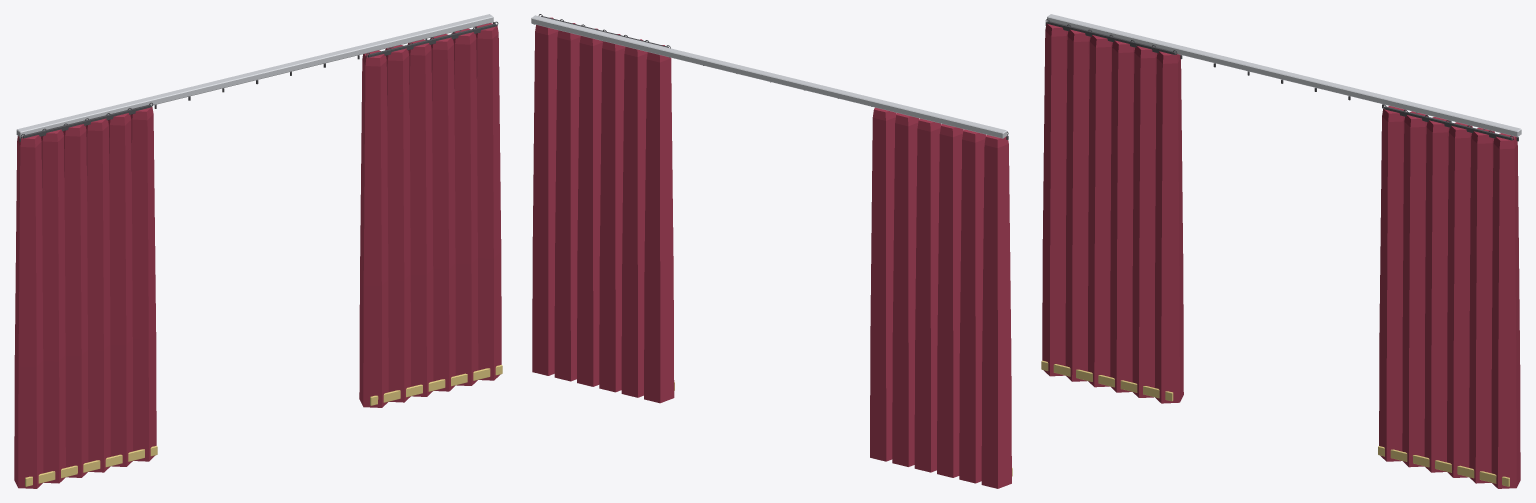
File: theatre-stage-and-backstage-house-tabs-on-track-open-00c29a91.glb
3 renders of one model, left to right at view 1: azimuth 30°, elevation 25°; view 2: azimuth 150°, elevation 25°; view 3: azimuth 330°, elevation 25°, orthographic.
Parts seen in each view (by area): view 1: tab-right, tab-left, house-tabs-on-track-open, tab-right/gilt, tab-left/gilt, tab-left/black, tab-right/black; view 2: tab-left, tab-right, house-tabs-on-track-open; view 3: tab-right, tab-left, house-tabs-on-track-open, tab-left/gilt, tab-right/gilt, tab-left/black, tab-right/black.
Part boxes in pixels (left/top/right/bottom): tab-right: left=359, top=23, right=501, bottom=407; tab-left: left=14, top=107, right=156, bottom=488; house-tabs-on-track-open: left=16, top=14, right=494, bottom=141; tab-right/gilt: left=370, top=365, right=502, bottom=405; tab-left/gilt: left=25, top=446, right=157, bottom=486; tab-left/black: left=20, top=102, right=153, bottom=138; tab-right/black: left=366, top=21, right=498, bottom=57; tab-left: left=870, top=107, right=1011, bottom=488; tab-right: left=532, top=17, right=674, bottom=403; house-tabs-on-track-open: left=531, top=15, right=1008, bottom=139; tab-right: left=1379, top=106, right=1520, bottom=488; tab-left: left=1042, top=23, right=1183, bottom=403; house-tabs-on-track-open: left=1045, top=14, right=1521, bottom=141; tab-left/gilt: left=1041, top=360, right=1173, bottom=401; tab-right/gilt: left=1378, top=446, right=1509, bottom=486; tab-left/black: left=1045, top=19, right=1177, bottom=54; tab-right/black: left=1382, top=104, right=1513, bottom=140.
Size of the model in its own units: 7.5 by 5.29 by 0.4823.
